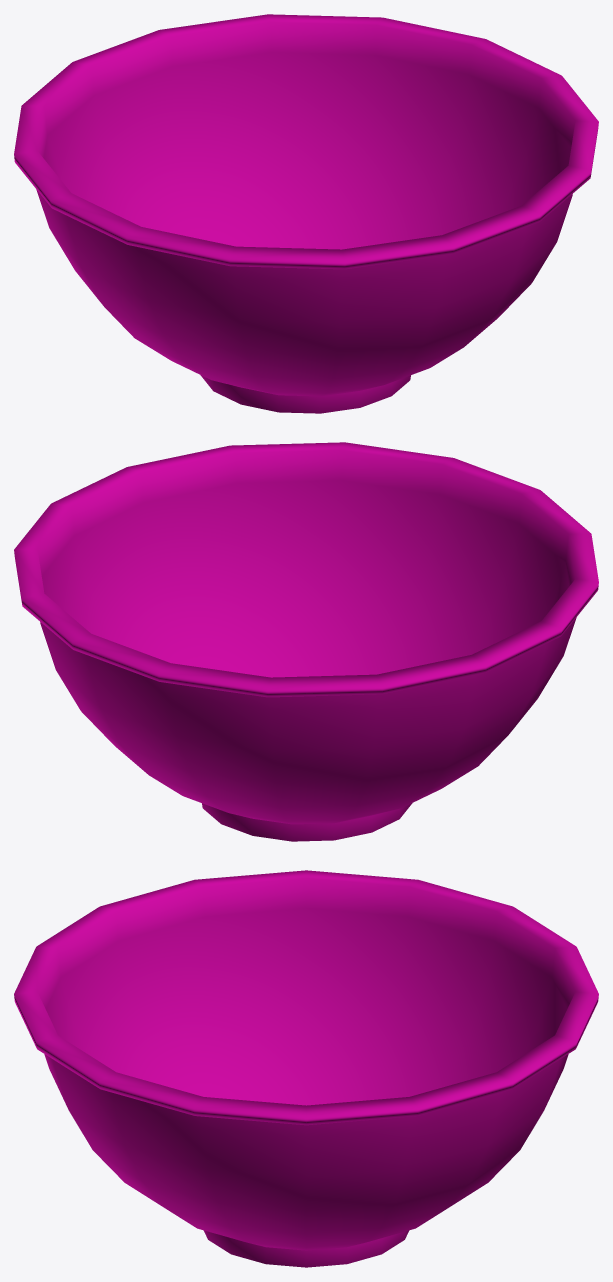
Rendered from bowl_5.fbx.
3 renders of one model, top to bottom at view 1: azimuth 30°, elevation 25°; view 2: azimuth 150°, elevation 25°; view 3: azimuth 270°, elevation 25°, orthographic.
Parts seen in each view (by area): view 1: polySurface9; view 2: polySurface9; view 3: polySurface9.
Part boxes in pixels (<box>): polySurface9: <box>14,14,598,413</box>; polySurface9: <box>14,442,598,841</box>; polySurface9: <box>14,870,598,1267</box>.
Size of the model in its own units: 4.63 by 2.02 by 4.63.
